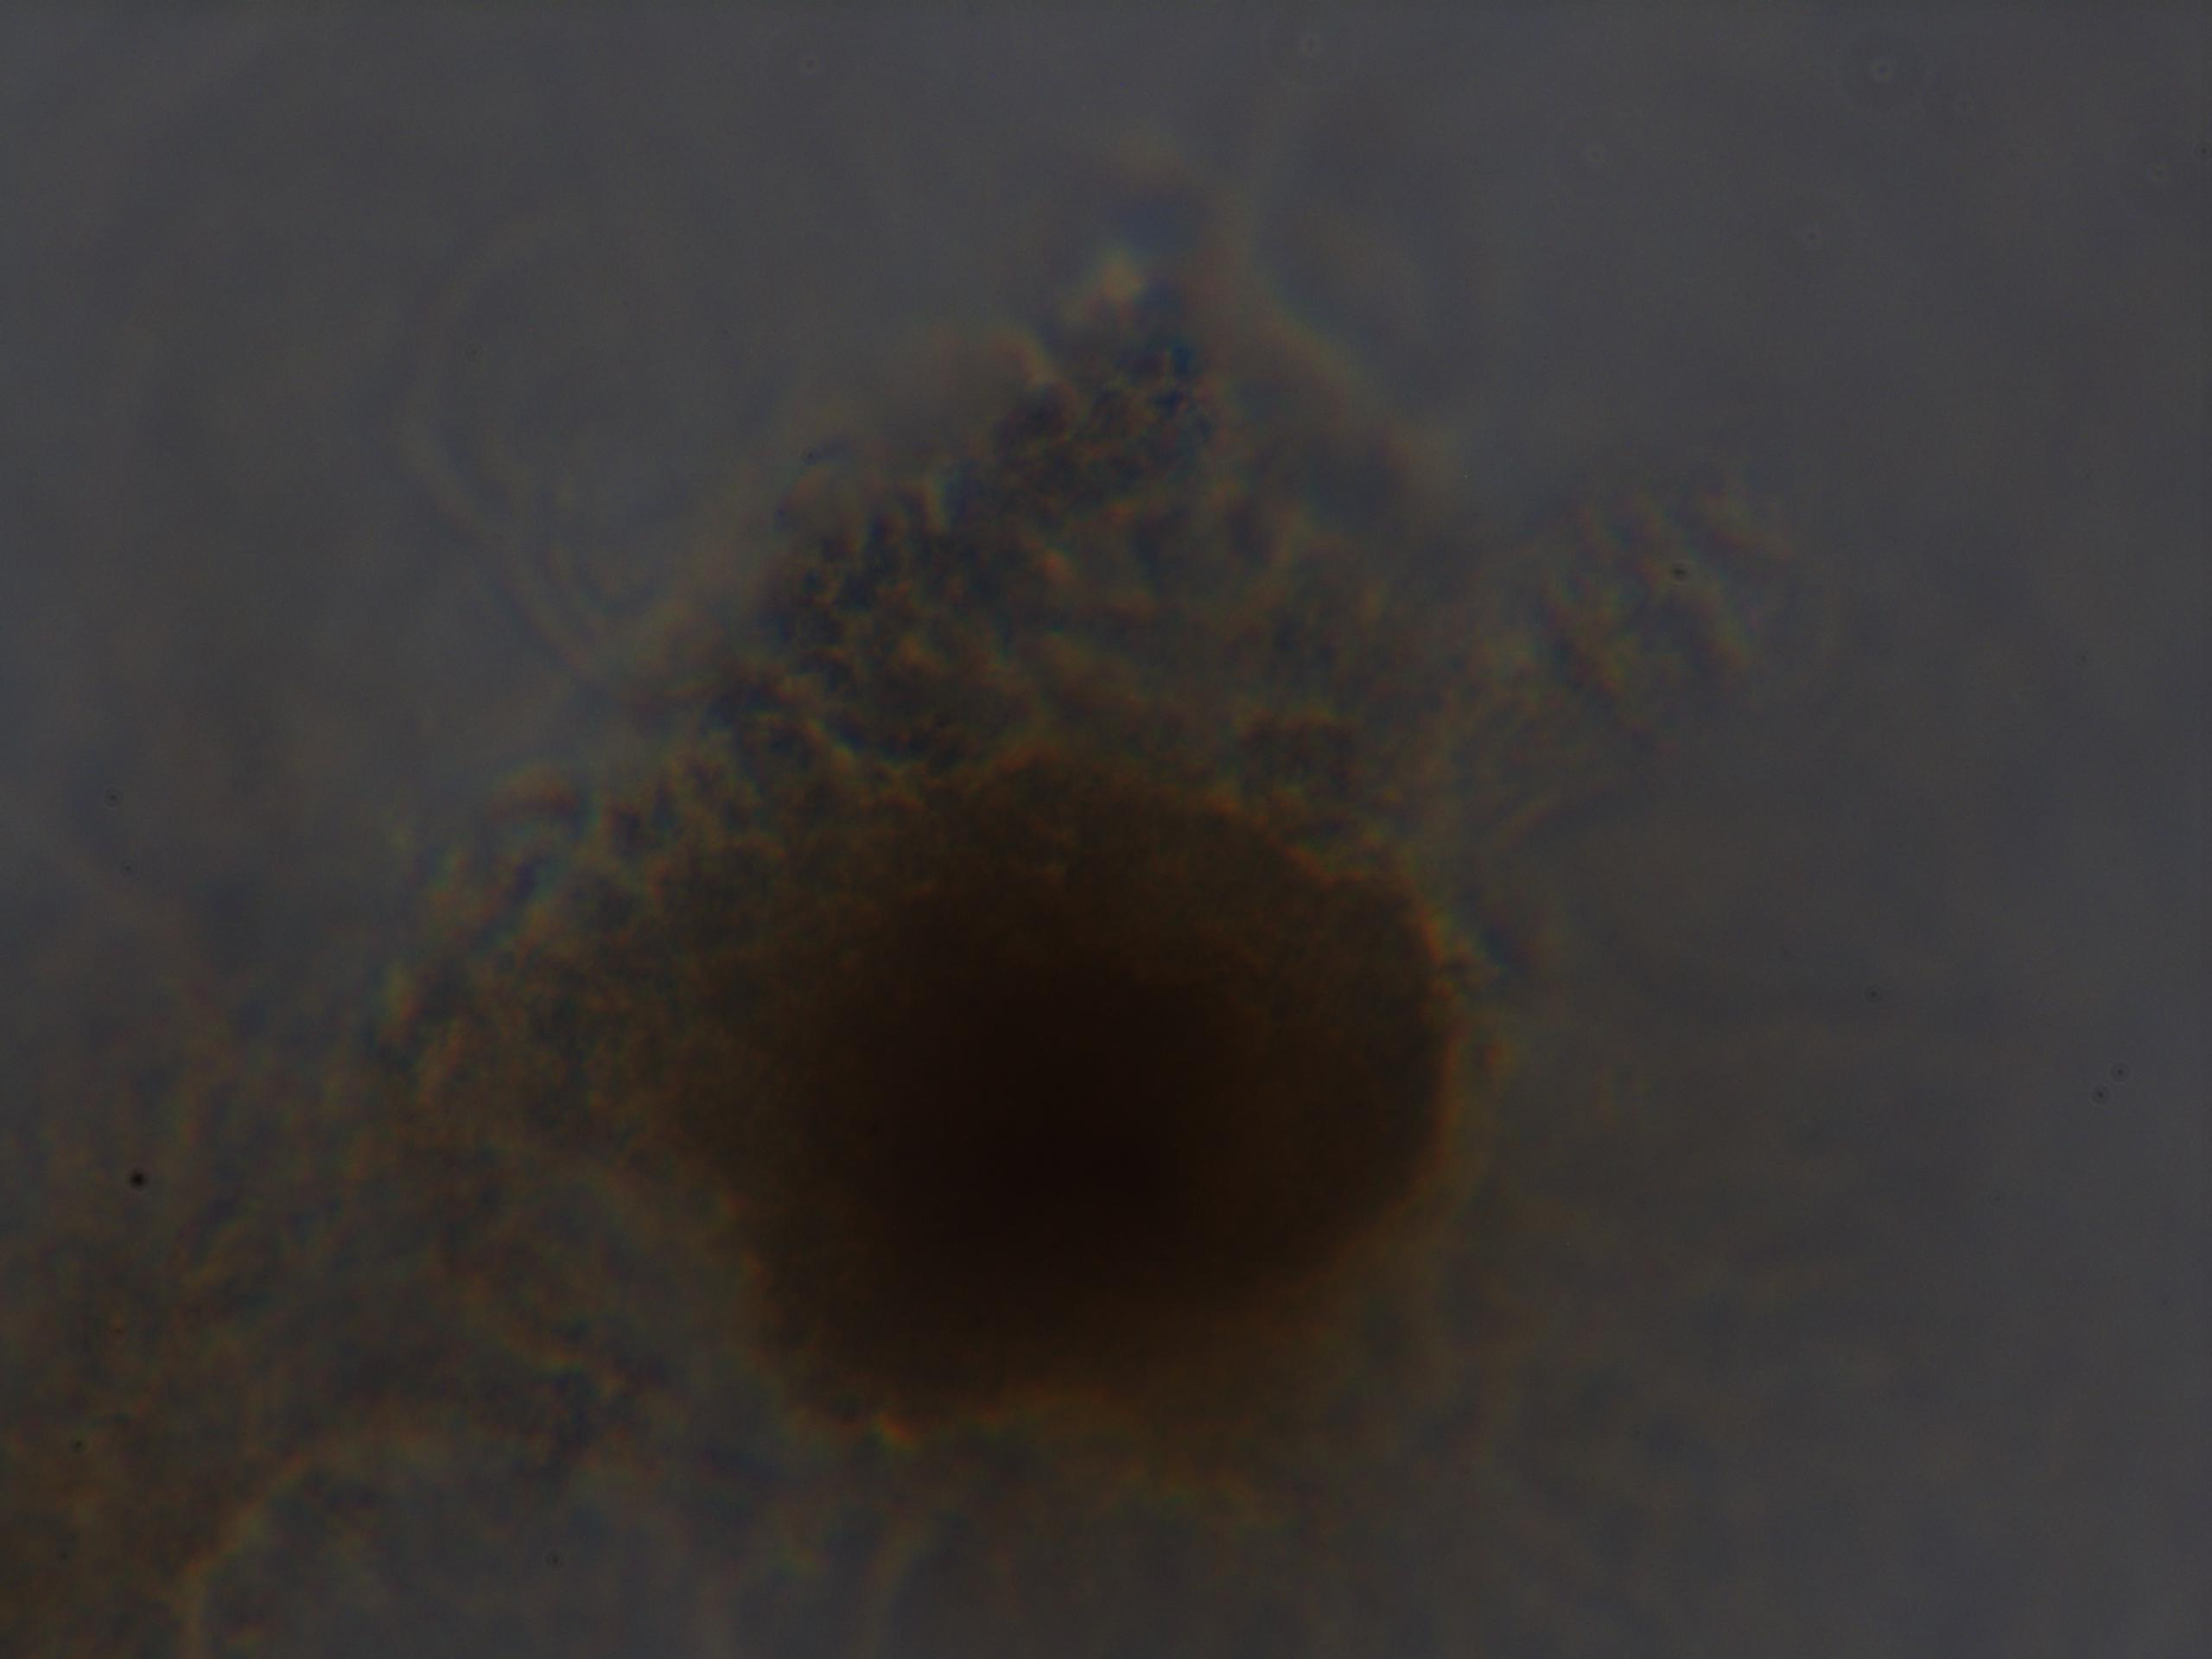spherical_floc: (596, 728, 1474, 1474)
